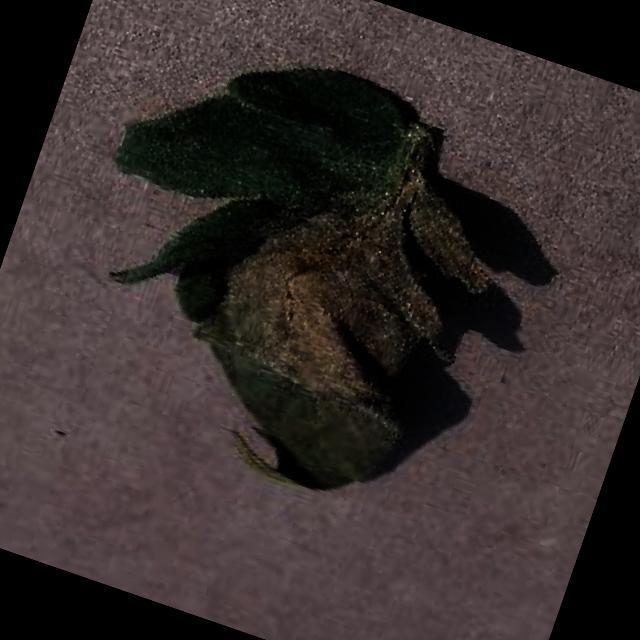Tomato late blight leaf: (29, 6, 543, 528)
